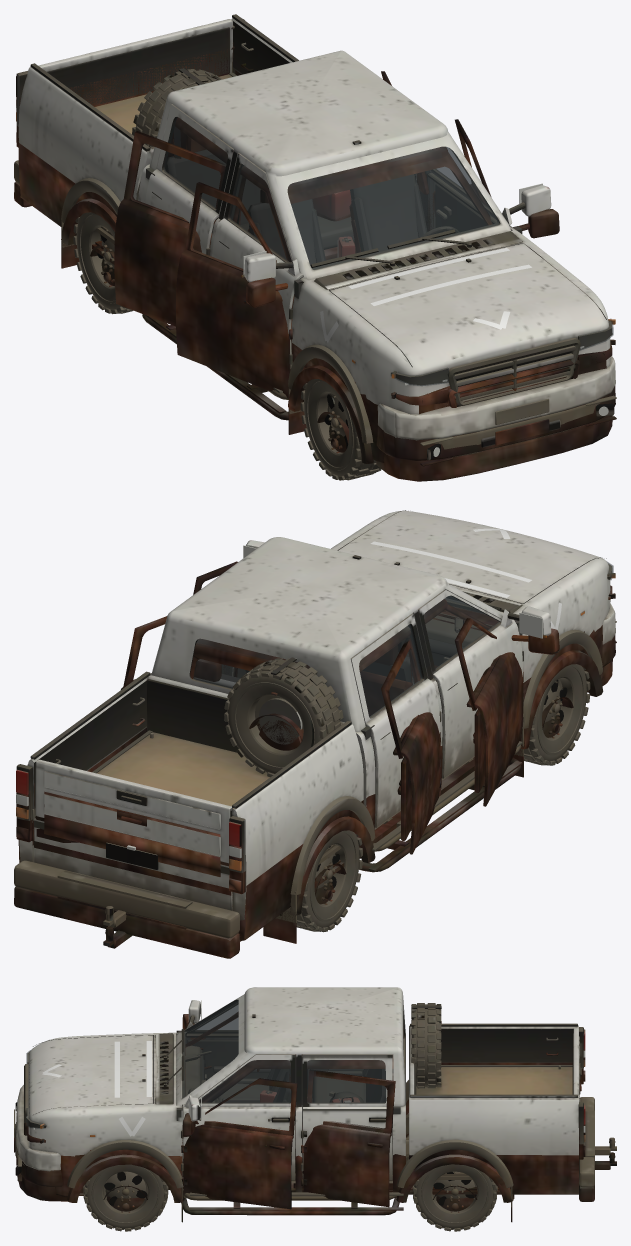
File: pickup_atgm.glb
The picture shows the model from 3 angles, top to bottom: view 1: azimuth 30°, elevation 25°; view 2: azimuth 150°, elevation 25°; view 3: azimuth 270°, elevation 25°; orthographic projection. The views are drawn at different scales.
Visible parts, largest first — view 1: hull_geo, hull_wreck, glass_geo, tailgate_geo, door_FR_geo, wheel_R1_geo, door_RR_geo, door_FL_geo, wheel_R2_geo, door_RR_glass, door_FR_glass, id_tape; view 2: hull_geo, hull_wreck, tailgate_geo, door_FR_geo, door_RR_geo, wheel_R1_geo, wheel_R2_geo, door_RR_glass, door_FR_glass, glass_geo, id_tape; view 3: hull_geo, hull_wreck, wheel_L1_geo, wheel_L2_geo, glass_geo, door_FL_geo, door_RL_geo, door_RL_glass, door_FL_glass, door_FR_geo, id_tape, tailgate_geo (+1 smaller).
Part boxes in pixels (left/top/right/bottom): hull_geo: left=14, top=14, right=616, bottom=460; hull_wreck: left=14, top=42, right=616, bottom=481; glass_geo: left=287, top=146, right=613, bottom=386; tailgate_geo: left=38, top=19, right=233, bottom=105; door_FR_geo: left=212, top=153, right=303, bottom=368; wheel_R1_geo: left=300, top=379, right=381, bottom=480; door_RR_geo: left=145, top=104, right=233, bottom=255; door_FL_geo: left=428, top=169, right=551, bottom=237; wheel_R2_geo: left=73, top=212, right=133, bottom=314; door_RR_glass: left=163, top=117, right=227, bottom=209; door_FR_glass: left=229, top=164, right=291, bottom=262; id_tape: left=348, top=248, right=531, bottom=305; hull_geo: left=14, top=510, right=616, bottom=938; hull_wreck: left=14, top=561, right=616, bottom=958; tailgate_geo: left=35, top=759, right=232, bottom=863; door_FR_geo: left=418, top=589, right=551, bottom=778; door_RR_geo: left=350, top=613, right=441, bottom=827; wheel_R1_geo: left=524, top=664, right=590, bottom=765; wheel_R2_geo: left=296, top=830, right=362, bottom=932; door_RR_glass: left=359, top=624, right=422, bottom=717; door_FR_glass: left=424, top=595, right=499, bottom=669; glass_geo: left=193, top=561, right=613, bottom=688; id_tape: left=370, top=541, right=531, bottom=597; hull_geo: left=14, top=987, right=616, bottom=1207; hull_wreck: left=14, top=1012, right=616, bottom=1222; wheel_L1_geo: left=83, top=1164, right=168, bottom=1231; wheel_L2_geo: left=412, top=1164, right=497, bottom=1231; glass_geo: left=26, top=1000, right=403, bottom=1128; door_FL_geo: left=181, top=1054, right=295, bottom=1180; door_RL_geo: left=301, top=1054, right=392, bottom=1180; door_RL_glass: left=307, top=1060, right=386, bottom=1103; door_FL_glass: left=199, top=1060, right=290, bottom=1103; door_FR_geo: left=185, top=1000, right=270, bottom=1092; id_tape: left=114, top=1041, right=151, bottom=1097; tailgate_geo: left=572, top=1028, right=581, bottom=1102.
Size of what is drawn, in the model's own units: 2.45 by 1.83 by 5.64.
Materials: 6 (2 with a texture image).
